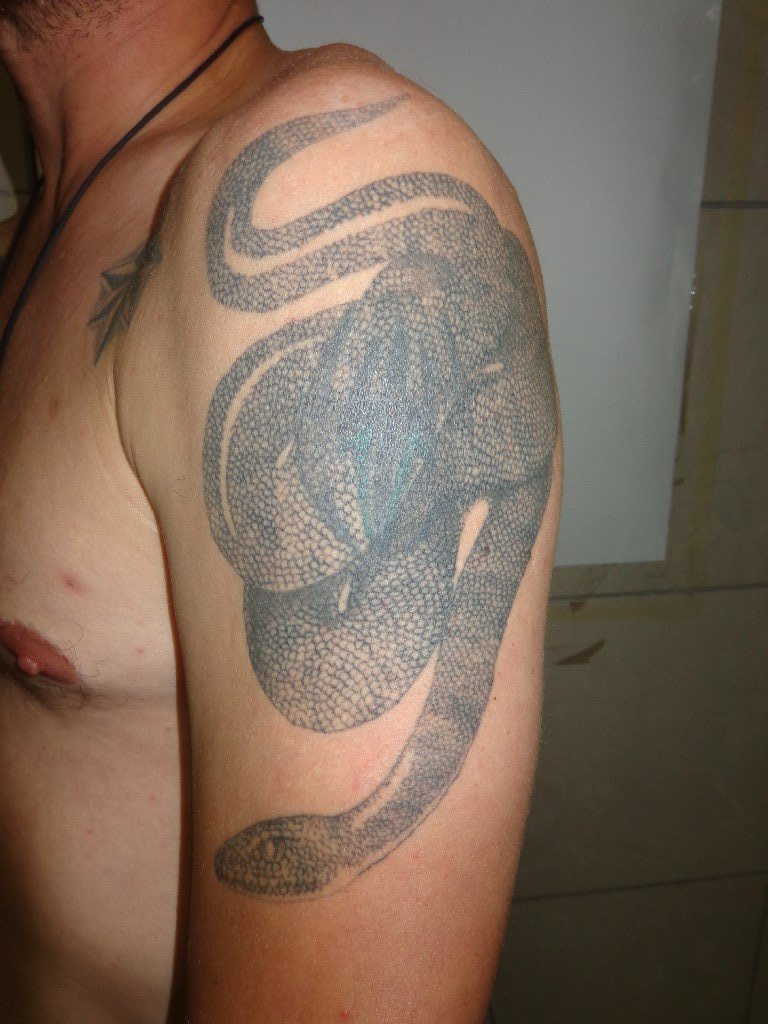tatu7_zmeya: (190, 83, 569, 901)
